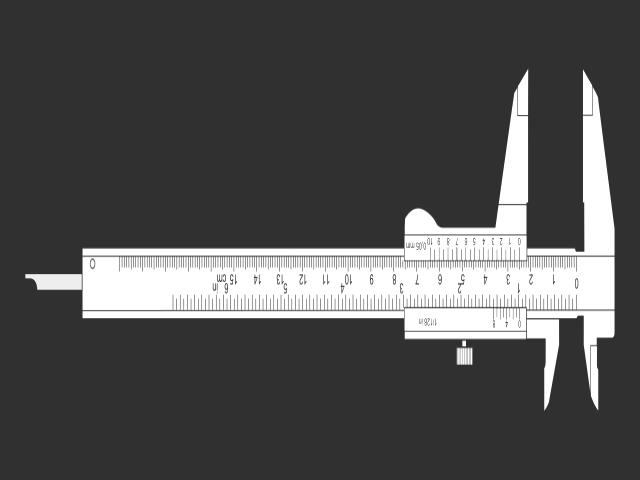Calipers: (24, 76, 615, 407)
